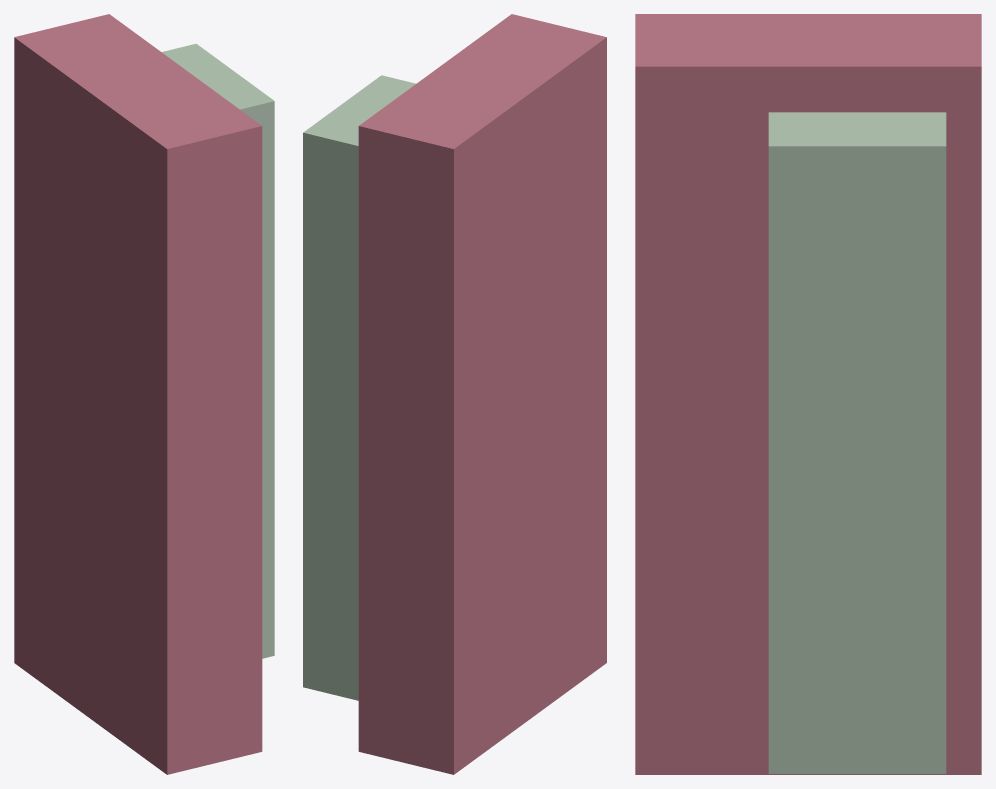
File: 199514_pred.glb
3 renders of one model, left to right at view 1: azimuth 30°, elevation 25°; view 2: azimuth 150°, elevation 25°; view 3: azimuth 270°, elevation 25°, orthographic. The views are drawn at different scales.
Visible parts, largest first — view 1: world; view 2: world; view 3: world.
Part boxes in pixels (x1,y1,x2,y2): world: (14, 14, 274, 774); world: (303, 14, 606, 774); world: (635, 14, 981, 774).
Bounding box in the file's own units: 2.45 × 8.8 × 3.9.
